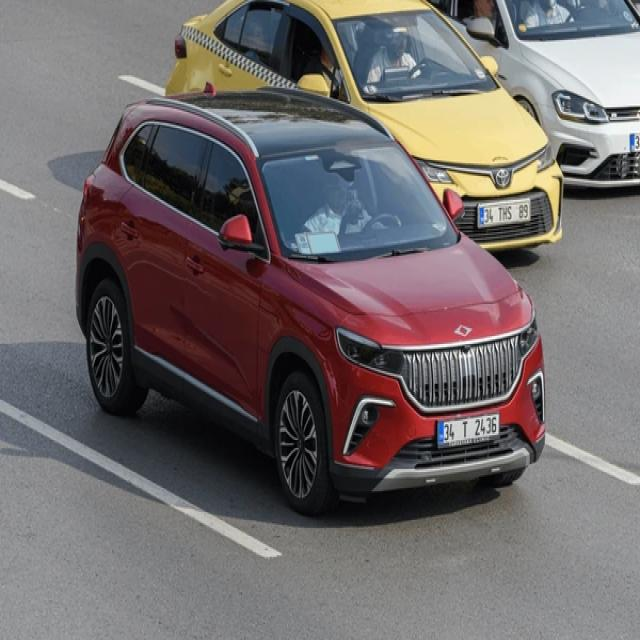togg: (452, 322, 473, 338)
toyota: (493, 167, 512, 190)
